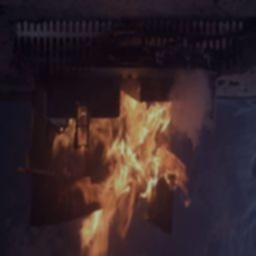fire: (61, 91, 191, 256)
